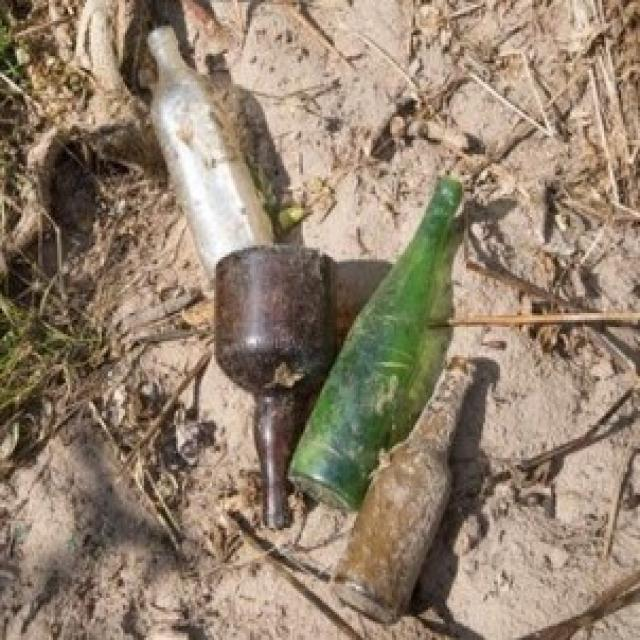electronic: (291, 171, 465, 518), (145, 26, 284, 291), (216, 243, 335, 527)
